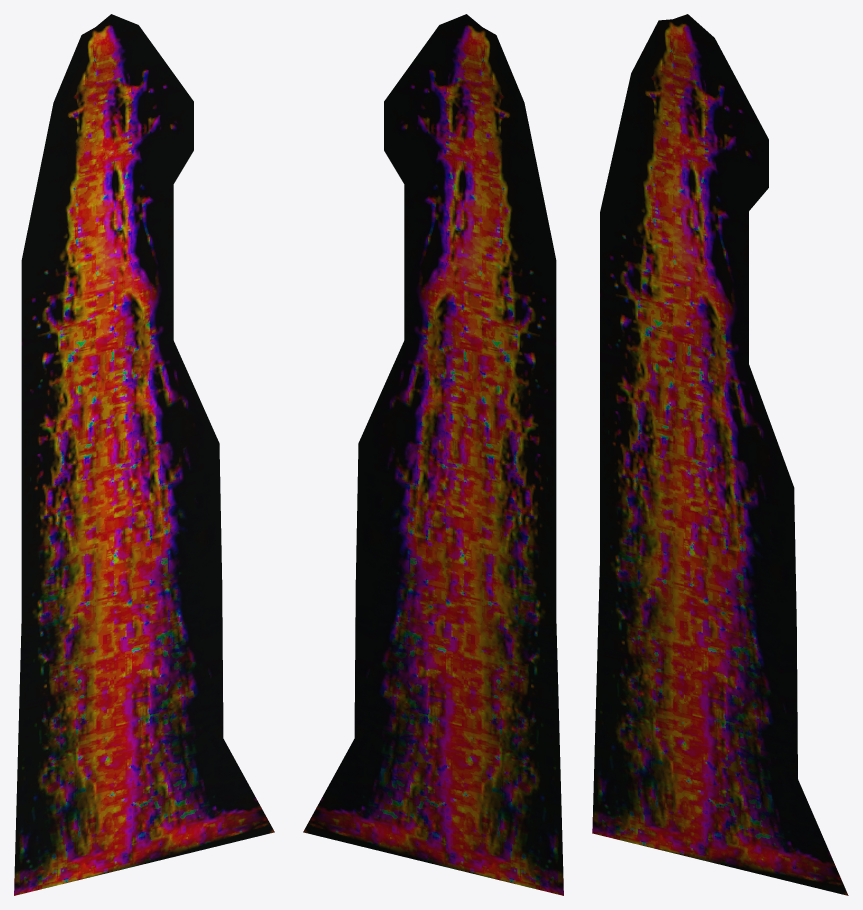
File: sangro.gltf
The picture shows the model from 3 angles, left to right: view 1: azimuth 30°, elevation 25°; view 2: azimuth 150°, elevation 25°; view 3: azimuth 330°, elevation 25°; orthographic projection.
Parts seen in each view (by area): view 1: sangro; view 2: sangro; view 3: sangro.
Part boxes in pixels (x1=…): sangro: x1=14, y1=14, x2=274, y2=895; sangro: x1=303, y1=14, x2=563, y2=895; sangro: x1=592, y1=14, x2=848, y2=895.
Bounding box in the file's own units: 579 × 1818 × 0.000307.
Materials: 1 (1 with a texture image).
